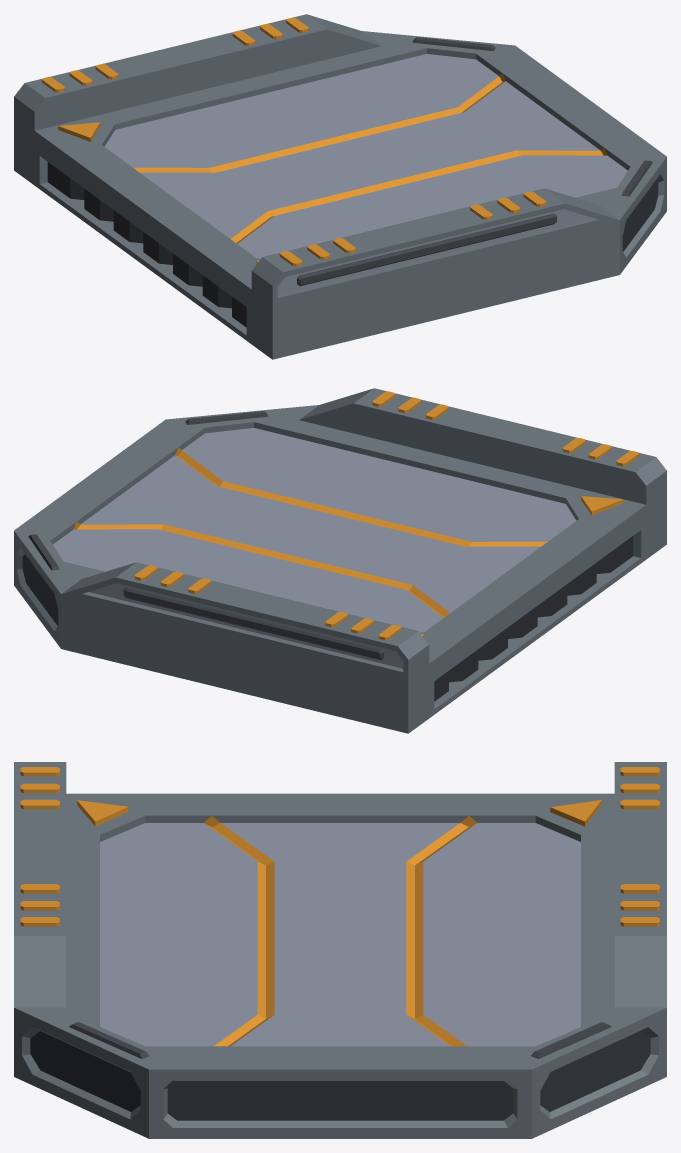
File: SM_Ladder_platform.glb
The picture shows the model from 3 angles, top to bottom: view 1: azimuth 30°, elevation 25°; view 2: azimuth 150°, elevation 25°; view 3: azimuth 270°, elevation 25°; orthographic projection. The views are drawn at different scales.
Visible parts, largest first — view 1: SM_Ladder_platform; view 2: SM_Ladder_platform; view 3: SM_Ladder_platform.
Boxes of the visible parts, x1=… form: SM_Ladder_platform: x1=14, y1=14, x2=666, y2=359; SM_Ladder_platform: x1=14, y1=388, x2=666, y2=733; SM_Ladder_platform: x1=14, y1=762, x2=666, y2=1138.
Bounding box in the file's own units: 4 × 0.7497 × 4.
Materials: 1 (1 with a texture image).
